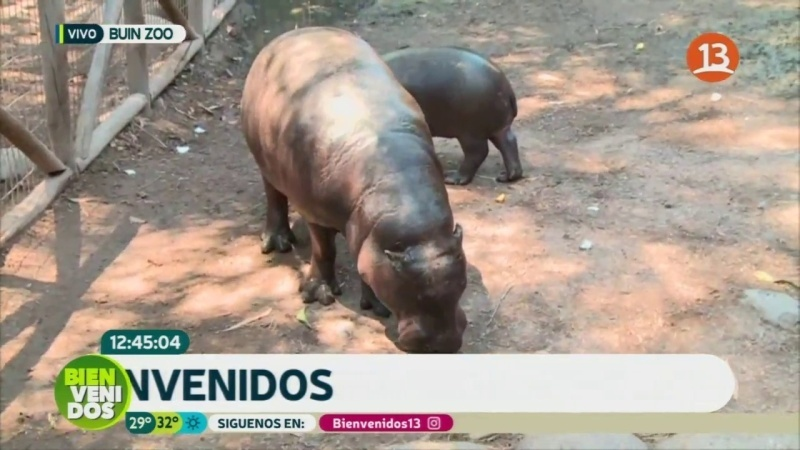hipopotamo: (225, 22, 486, 353), (373, 36, 541, 188)
